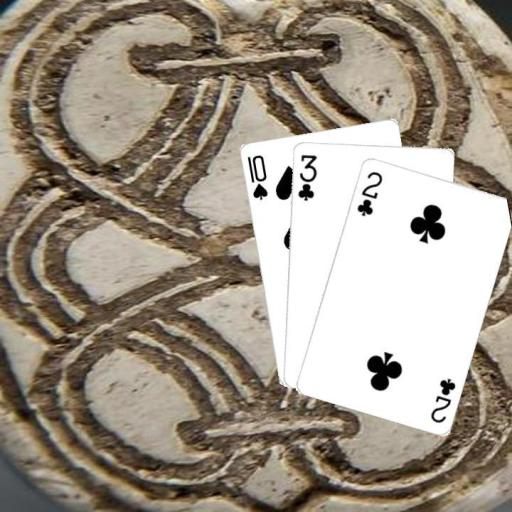10S: (243, 152, 269, 202)
2C: (353, 168, 384, 218), (427, 374, 457, 424)
3C: (294, 151, 318, 202)
